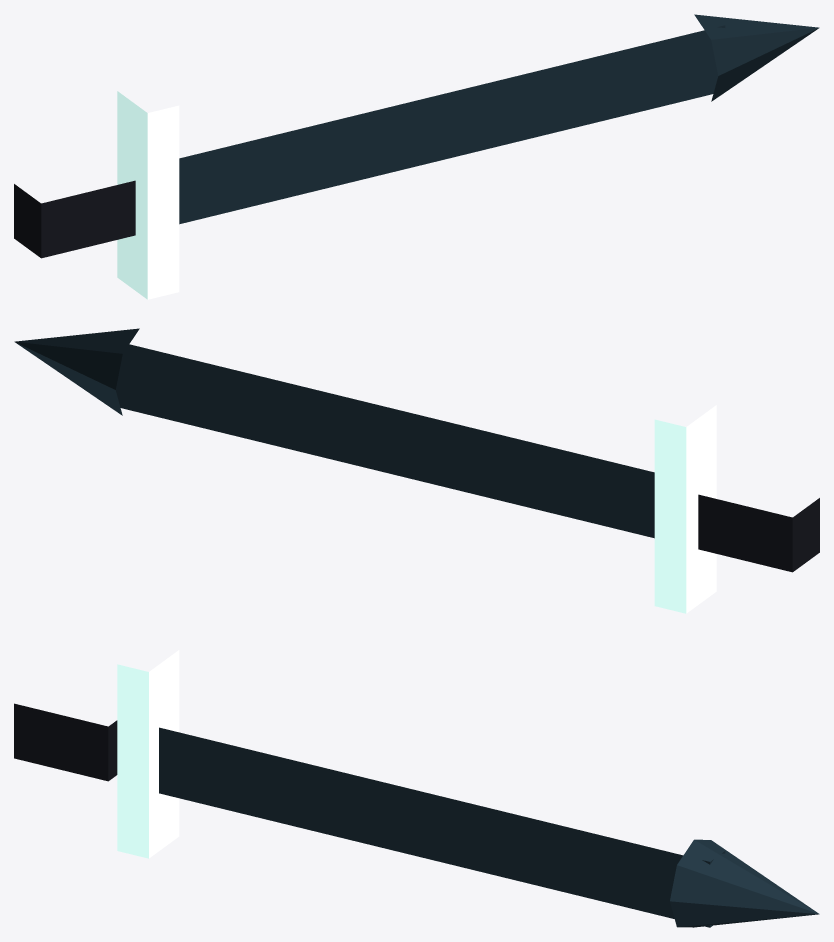
The model's file is abaddon.glb.
3 views of the same model, one above another, from view 1: azimuth 30°, elevation 25°; view 2: azimuth 150°, elevation 25°; view 3: azimuth 330°, elevation 25° (orthographic).
Parts seen in each view (by area): view 1: abaddon-blade, abaddon-guard, abaddon-grip, abaddon-tip; view 2: abaddon-blade, abaddon-guard, abaddon-grip, abaddon-tip; view 3: abaddon-blade, abaddon-guard, abaddon-tip, abaddon-grip.
Part boxes in pixels (x1=…): abaddon-blade: x1=179, y1=25, x2=725, y2=224; abaddon-guard: x1=117, y1=91, x2=179, y2=299; abaddon-grip: x1=14, y1=180, x2=135, y2=258; abaddon-tip: x1=694, y1=14, x2=819, y2=101; abaddon-blade: x1=108, y1=339, x2=654, y2=538; abaddon-guard: x1=654, y1=405, x2=716, y2=613; abaddon-grip: x1=698, y1=494, x2=819, y2=572; abaddon-tip: x1=14, y1=328, x2=139, y2=415; abaddon-blade: x1=159, y1=727, x2=725, y2=927; abaddon-guard: x1=117, y1=650, x2=179, y2=858; abaddon-tip: x1=670, y1=839, x2=819, y2=927; abaddon-grip: x1=14, y1=703, x2=117, y2=781.
Size of the model in its own units: 1.51 by 0.34 by 0.16.
